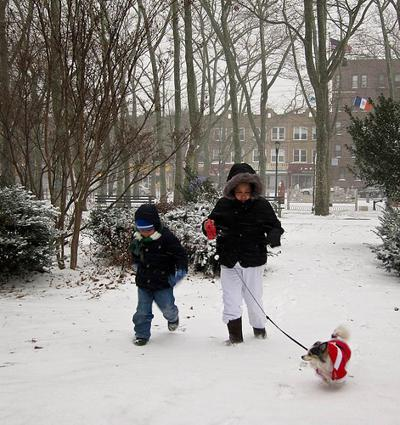person: (202, 159, 284, 347)
